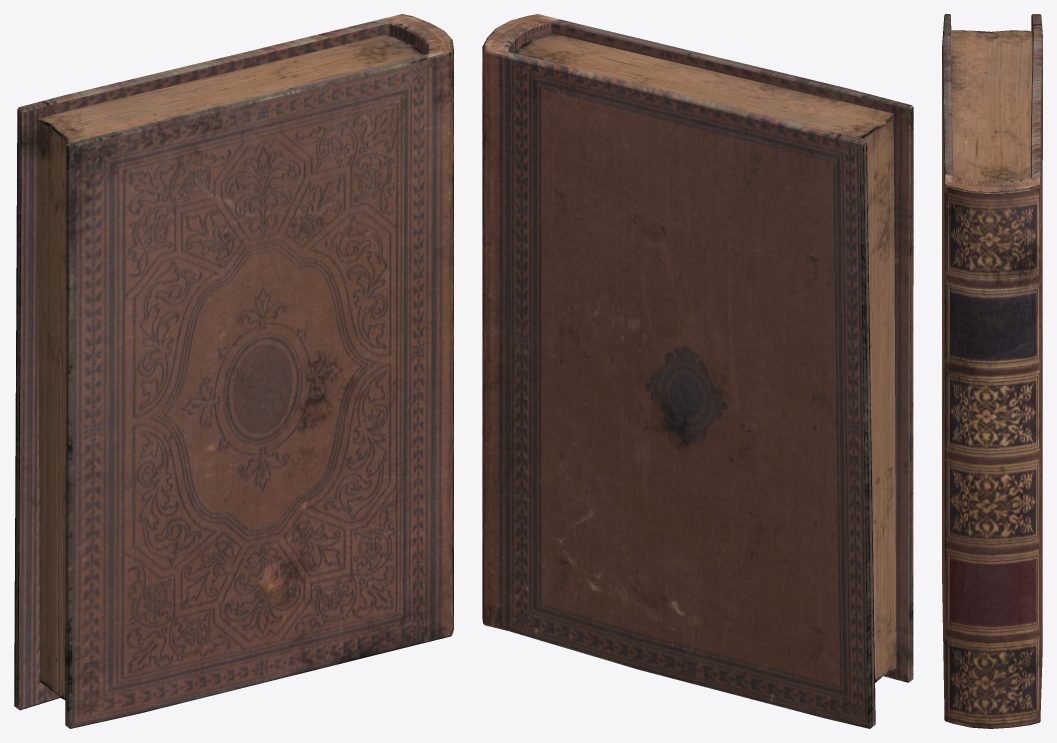
3 renders of one model, left to right at view 1: azimuth 30°, elevation 25°; view 2: azimuth 150°, elevation 25°; view 3: azimuth 270°, elevation 25°, orthographic. The views are drawn at different scales.
Parts seen in each view (by area): view 1: bookA31; view 2: bookA31; view 3: bookA31.
Boxes of the visible parts, x1,y1,x2,y2 form: bookA31: (14,14,453,728); bookA31: (482,14,913,728); bookA31: (942,14,1042,728).
Size of the model in its own units: 1.43 by 2 by 0.3334.
1 material, 1 textured.
